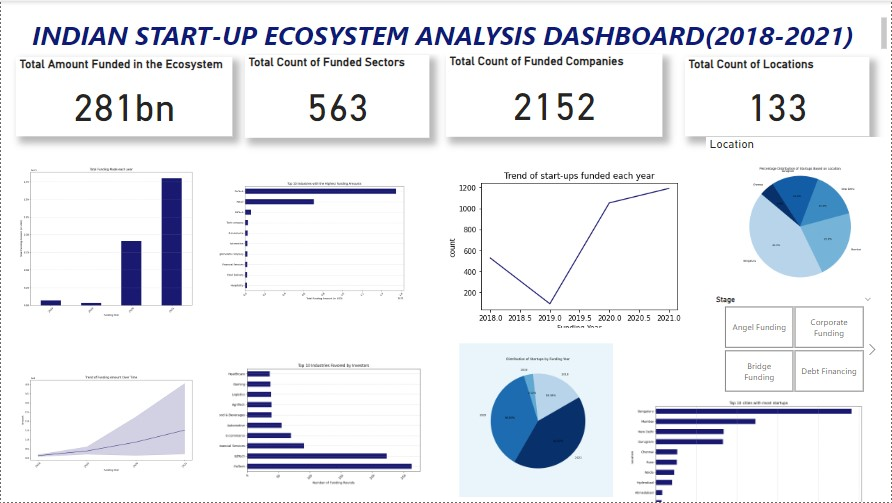

The dashboard page shown, as its layout file describes it:
{"tool":"powerbi","page":{"name":"Page 1","canvas":[1280,720],"ordinal":0},"visuals":[{"type":"pythonVisual","fields":{"Values":["Sum(data.Amount)","Sum(data.Funding Year)"]},"box":[0,195.7,309.6,289.2],"z":0},{"type":"pythonVisual","fields":{"Values":["data.Location"]},"box":[888,531.6,391.4,245.4],"z":1},{"type":"pythonVisual","fields":{"Values":["data.Sector","Sum(data.Amount)"]},"box":[309.6,195.7,303.8,289.2],"z":2},{"type":"pythonVisual","fields":{"Values":["data.Sector","data.Stage"]},"box":[309.6,484.9,330.1,233.7],"z":3},{"type":"pythonVisual","fields":{"Values":["data.Company"]},"box":[654.3,484.9,230.8,236.6],"z":4},{"type":"pythonVisual","fields":{"Values":["data.Funding Year","data.Company"]},"box":[639.7,219.1,373.9,265.8],"z":5},{"type":"card","title":"Total Amount Funded in the Ecosystem","fields":{"Values":["Sum(data.Amount)"]},"box":[21.8,80.6,310.8,114.2],"z":6},{"type":"card","title":"Total Count of Funded Companies","fields":{"Values":["Count(data.Company)"]},"box":[640,75.6,310.8,119.3],"z":7},{"type":"card","title":"Total Count of Locations ","fields":{"Values":["Count(data.Location)"]},"box":[982.7,80.6,265.4,114.2],"z":8},{"type":"card","title":"Total Count of Funded Sectors","fields":{"Values":["Count(data.Sector)"]},"box":[351.1,77.3,265.4,119.3],"z":9},{"type":"pythonVisual","fields":{"Values":["data.Location"]},"box":[1013.5,195.7,265.8,236.6],"z":10},{"type":"pythonVisual","fields":{"Values":["data.Funding Year","Sum(data.Amount)"]},"box":[0,484.9,309.6,233.7],"z":11},{"type":"slicer","fields":{"Values":["data.Stage"]},"box":[1014.6,418.3,248.6,149.5],"z":12},{"type":"textbox","box":[0,18.5,1278.3,57.1],"z":13}]}

Visuals, with their boxes in screenshot pixels (x1, y1, x2, y2), scaled from the page's 1280x720 canvas onto the 892x503 screenshot:
pythonVisual - Sum(data.Amount) x Sum(data.Funding Year): box=[0, 137, 216, 339]
pythonVisual - data.Location: box=[619, 371, 891, 502]
pythonVisual - data.Sector x Sum(data.Amount): box=[216, 137, 427, 339]
pythonVisual - data.Sector x data.Stage: box=[216, 339, 446, 502]
pythonVisual - data.Company: box=[456, 339, 617, 502]
pythonVisual - data.Funding Year x data.Company: box=[446, 153, 706, 339]
"Total Amount Funded in the Ecosystem" card: box=[15, 56, 232, 136]
"Total Count of Funded Companies" card: box=[446, 53, 663, 136]
"Total Count of Locations " card: box=[685, 56, 870, 136]
"Total Count of Funded Sectors" card: box=[245, 54, 430, 137]
pythonVisual - data.Location: box=[706, 137, 891, 302]
pythonVisual - data.Funding Year x Sum(data.Amount): box=[0, 339, 216, 502]
slicer - data.Stage: box=[707, 292, 880, 397]
textbox: box=[0, 13, 891, 53]
